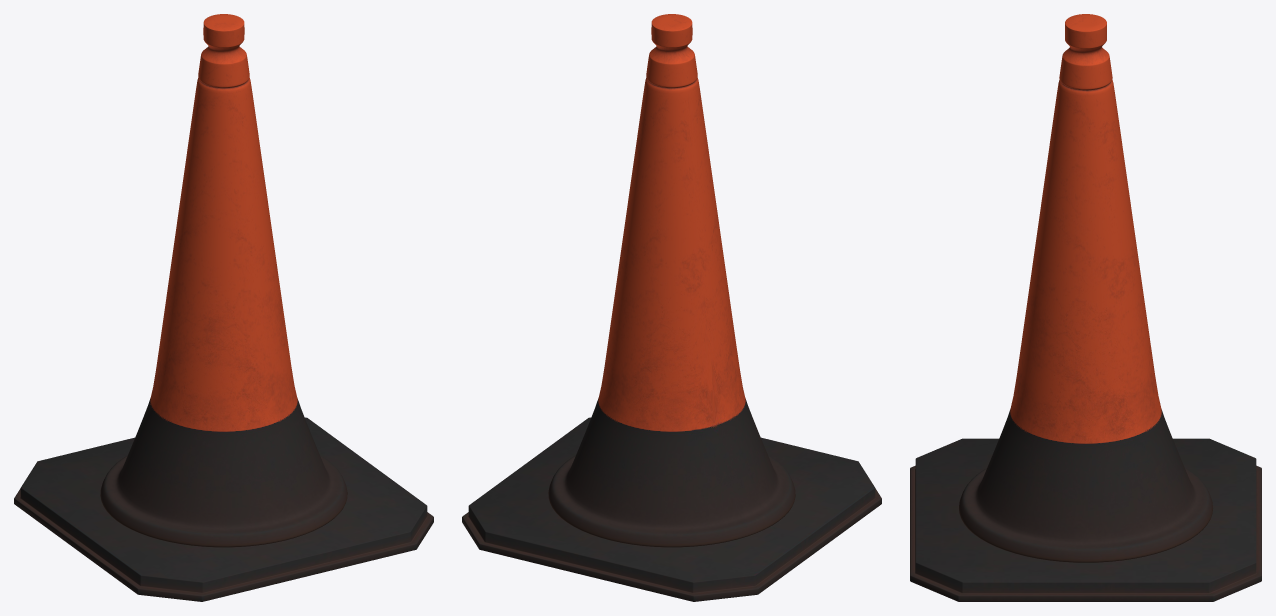
File: Plots.fbx
The picture shows the model from 3 angles, left to right: view 1: azimuth 30°, elevation 25°; view 2: azimuth 150°, elevation 25°; view 3: azimuth 270°, elevation 25°; orthographic projection. The views are drawn at different scales.
Visible parts, largest first — view 1: Circle, Plane; view 2: Circle, Plane; view 3: Circle, Plane.
Boxes of the visible parts, bbox=[...] form: Circle: bbox=[100, 14, 347, 547]; Plane: bbox=[14, 417, 433, 601]; Circle: bbox=[548, 14, 795, 547]; Plane: bbox=[462, 417, 881, 601]; Circle: bbox=[959, 14, 1212, 562]; Plane: bbox=[910, 438, 1261, 601].
Size of the model in its own units: 38.43 by 61.01 by 38.43.
Materials: 1 (1 with a texture image).
